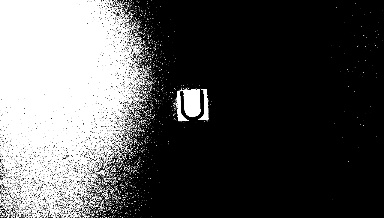U: (176, 89, 206, 119)
